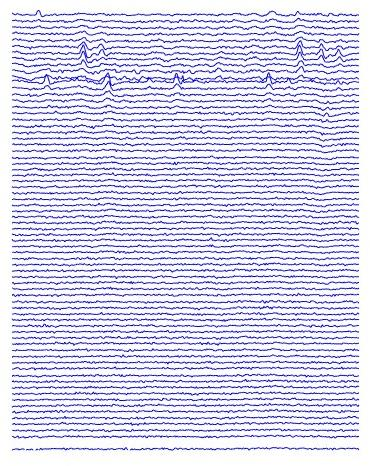defect: (316, 41, 346, 66), (292, 37, 309, 77), (99, 71, 119, 98), (75, 35, 90, 71), (262, 70, 277, 95), (171, 72, 188, 88), (39, 72, 54, 89), (94, 38, 104, 61)
